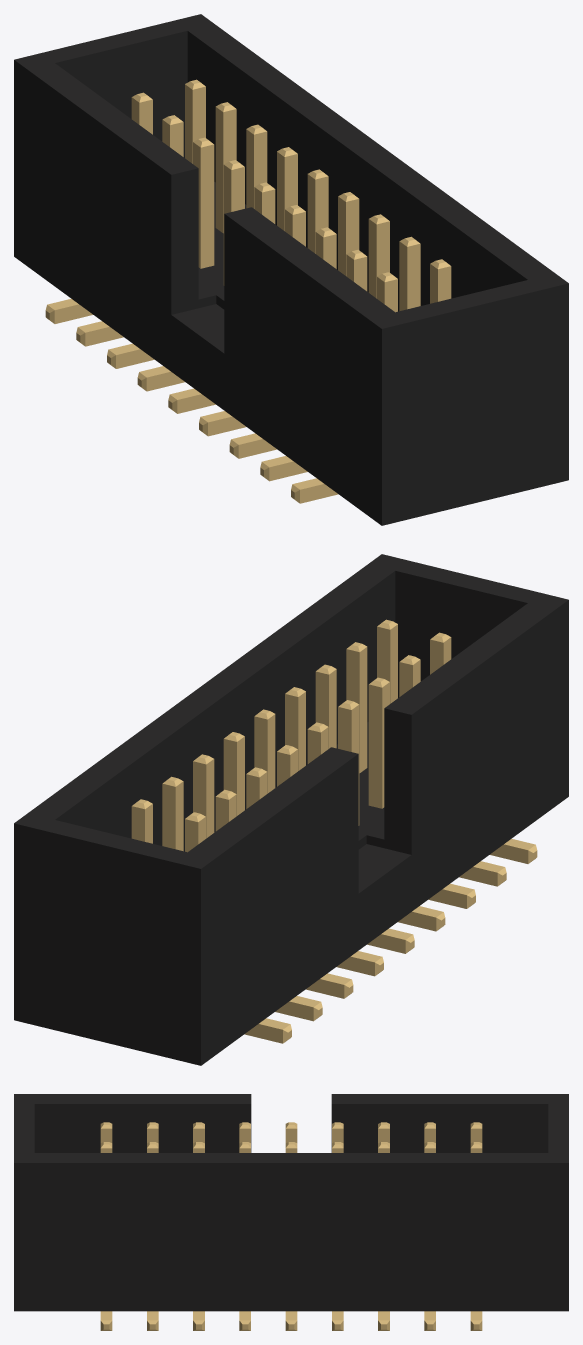
The model's file is kc-idc-header_2x09_p2.54mm_vertical_smd.glb.
3 views of the same model, one above another, from view 1: azimuth 30°, elevation 25°; view 2: azimuth 150°, elevation 25°; view 3: azimuth 270°, elevation 25° (orthographic). The views are drawn at different scales.
Parts seen in each view (by area): view 1: 0_0_0_0, 0.75_0.5_0.25_0.9; view 2: 0_0_0_0, 0.75_0.5_0.25_0.9; view 3: 0_0_0_0, 0.75_0.5_0.25_0.9.
Boxes of the visible parts, box(x1,y1,x2,y2) form: 0_0_0_0: box(14, 14, 568, 525); 0.75_0.5_0.25_0.9: box(45, 79, 451, 503); 0_0_0_0: box(14, 554, 568, 1065); 0.75_0.5_0.25_0.9: box(131, 619, 537, 1043); 0_0_0_0: box(14, 1094, 568, 1311); 0.75_0.5_0.25_0.9: box(100, 1122, 482, 1330).
Size of the model in its own units: 1.16 by 0.9641 by 3.05.
